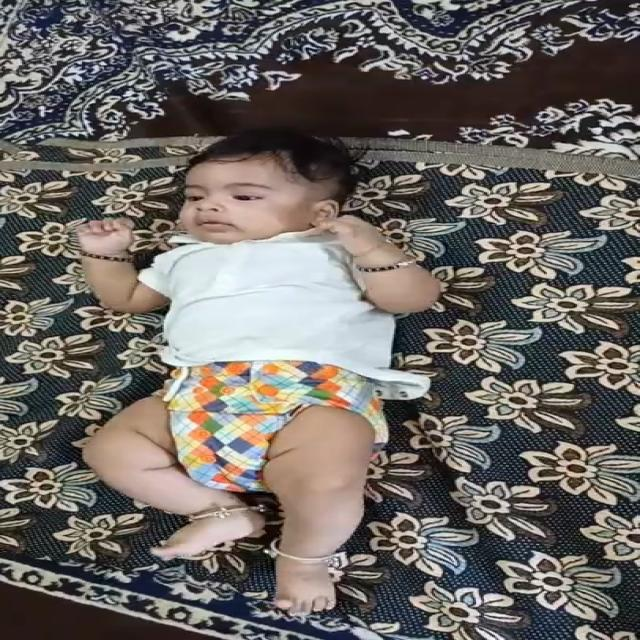baby: (64, 126, 456, 614)
